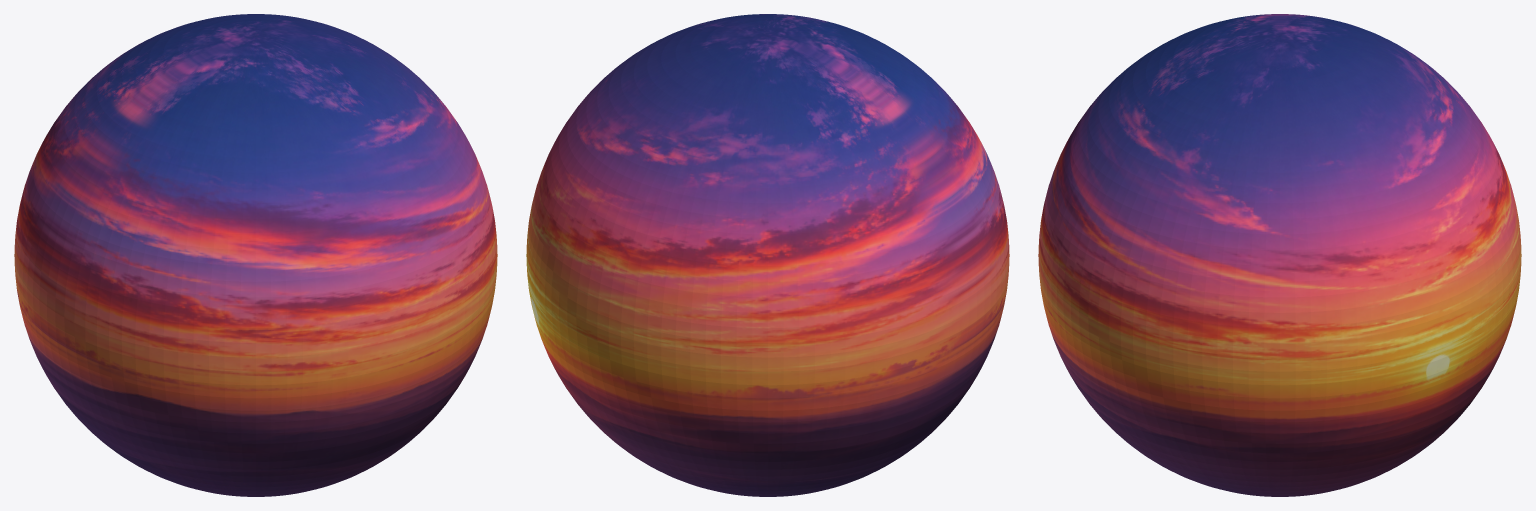
Rendered from Fondo.obj.
3 renders of one model, left to right at view 1: azimuth 30°, elevation 25°; view 2: azimuth 150°, elevation 25°; view 3: azimuth 270°, elevation 25°, orthographic.
Parts seen in each view (by area): view 1: Fondo_Cielo_Esfera; view 2: Fondo_Cielo_Esfera; view 3: Fondo_Cielo_Esfera.
Boxes of the visible parts, x1,y1,x2,y2 form: Fondo_Cielo_Esfera: [14, 14, 497, 496]; Fondo_Cielo_Esfera: [526, 14, 1009, 496]; Fondo_Cielo_Esfera: [1038, 14, 1521, 496].
Bounding box in the file's own units: 500 × 500 × 500.
